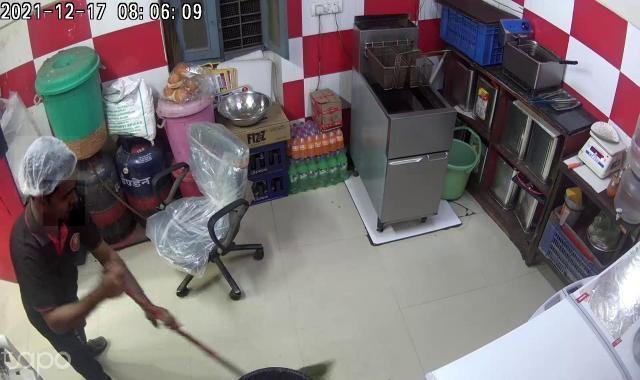gloves: (15, 136, 80, 197)
no_apron: (136, 292, 187, 336), (88, 260, 126, 307)
no_hairnet: (43, 181, 85, 227)
